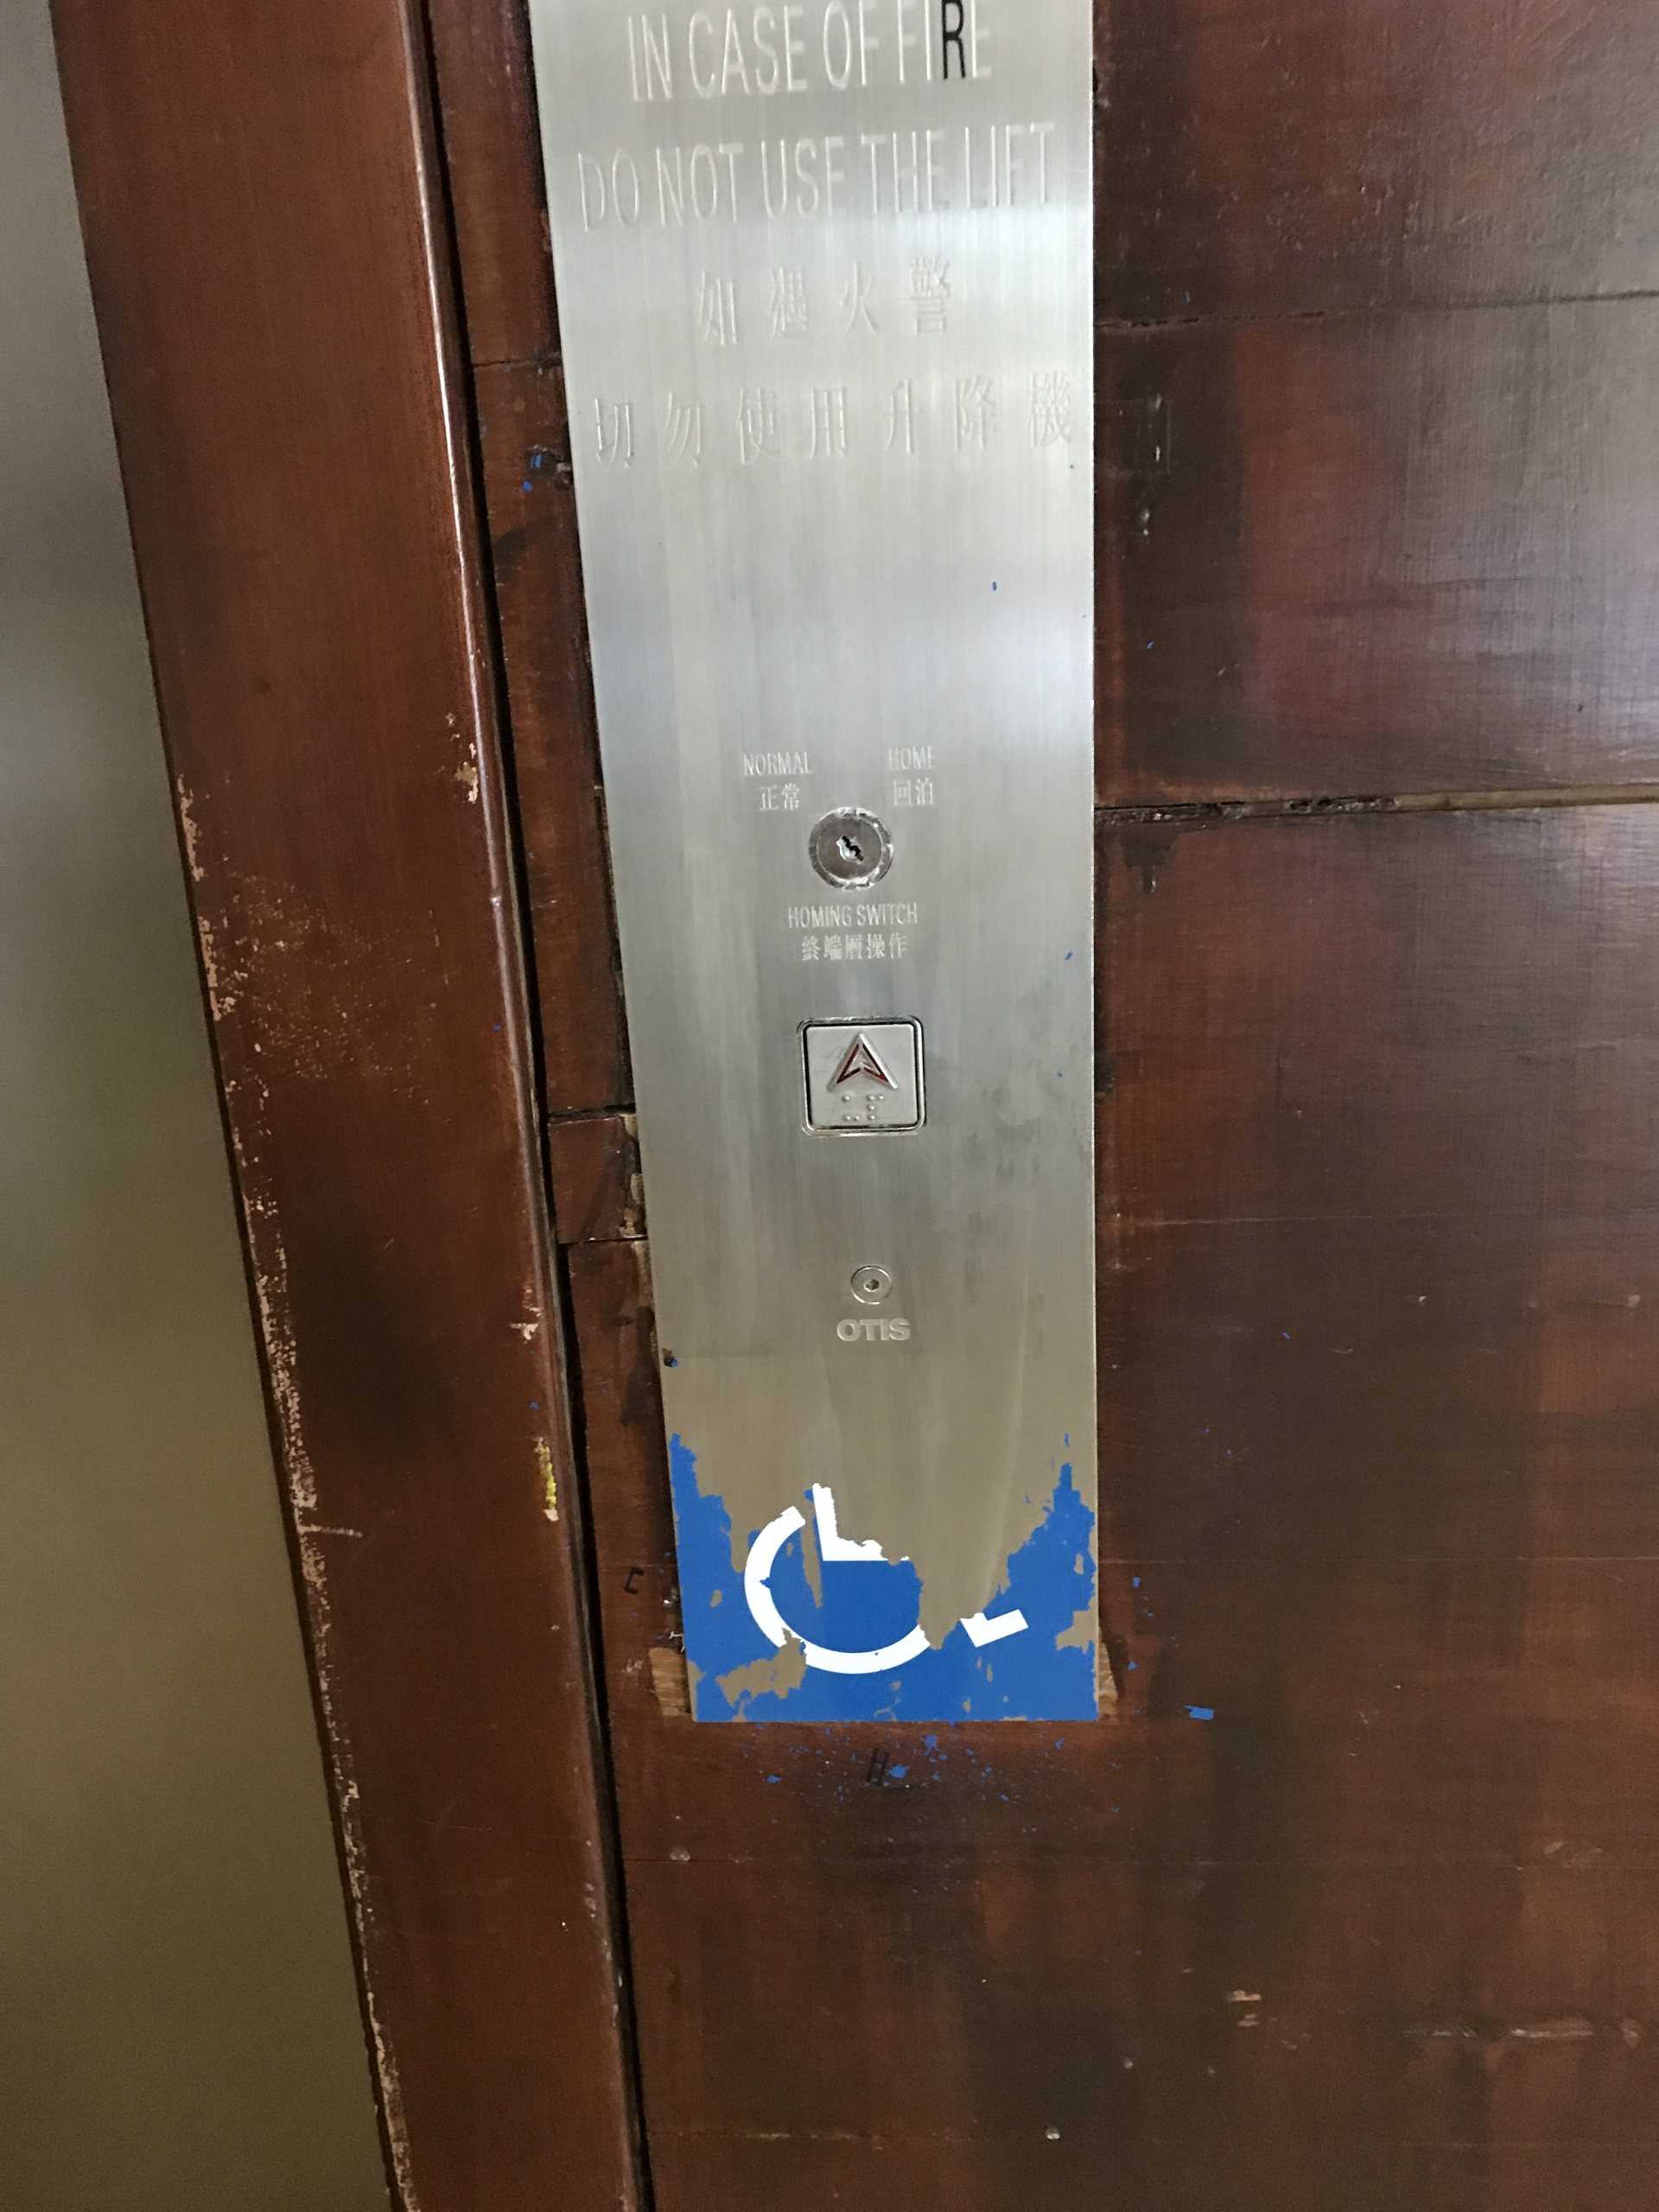keyhole: (793, 792, 903, 902)
up: (793, 1007, 936, 1143)
